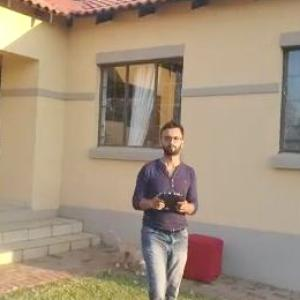follow: (123, 115, 204, 299)
null: (105, 224, 149, 277)
